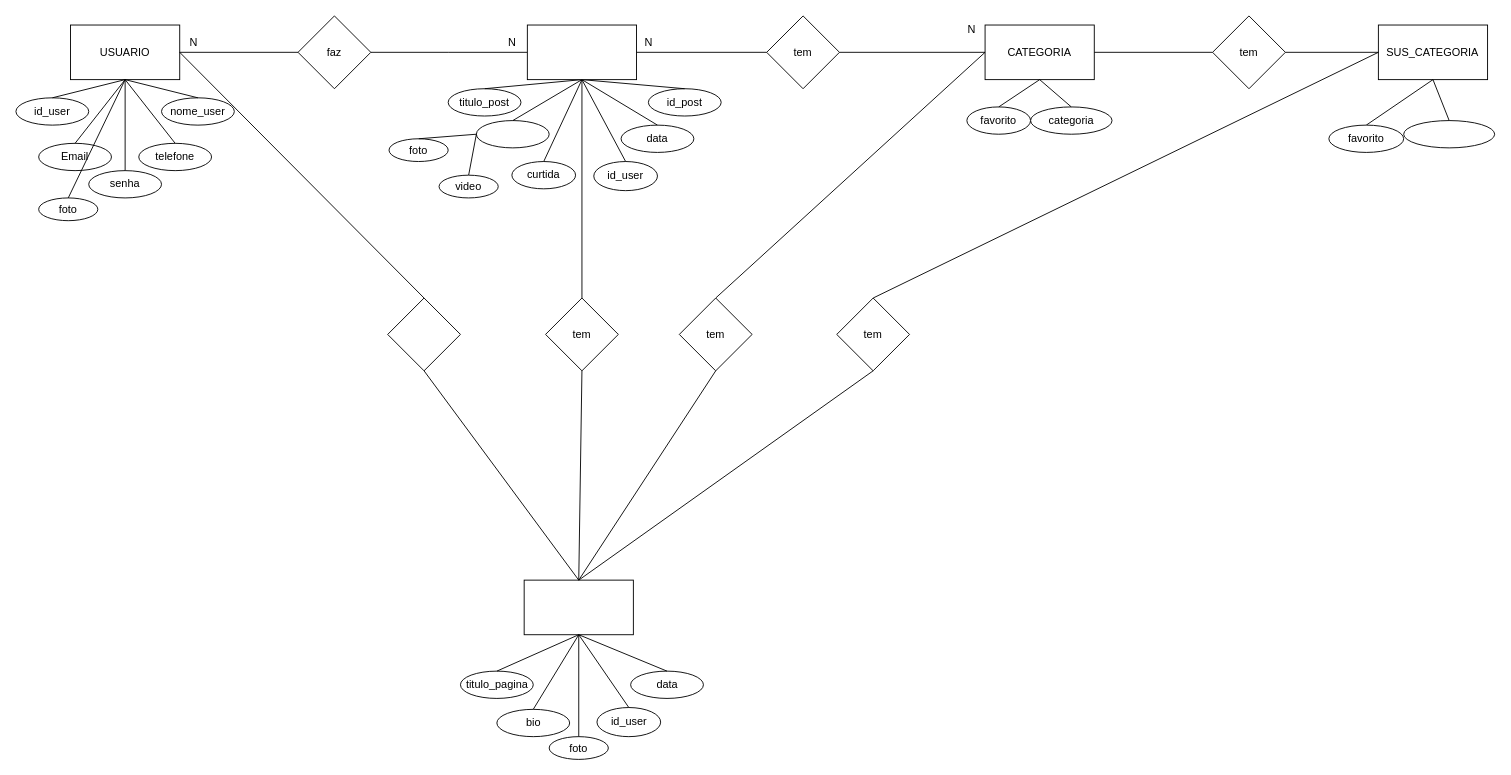
This 1511x775 diagram has some shape labels left out. Here are the shapes that lost their labels. From the top down, the box of each, then its label:
(526, 24, 637, 80): PUBLICACAO
(475, 120, 549, 148): coment
(1403, 120, 1495, 148): sub_categoria
(387, 297, 460, 371): criar
(523, 579, 633, 635): PAGINAS
